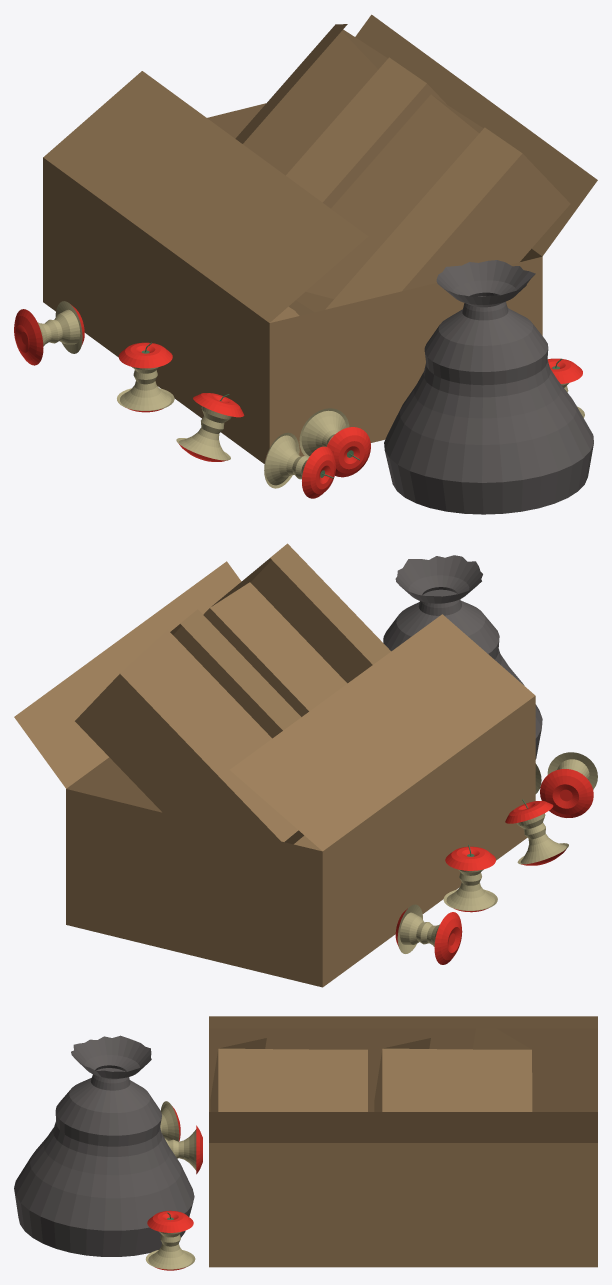
The model's file is RUBBISH.fbx.
The picture shows the model from 3 angles, top to bottom: view 1: azimuth 30°, elevation 25°; view 2: azimuth 150°, elevation 25°; view 3: azimuth 270°, elevation 25°; orthographic projection. The views are drawn at different scales.
Parts seen in each view (by area): view 1: Cube, Trash, Apple.003, Apple.004, Apple.005, Apple.002, Apple.001, Apple; view 2: Cube, Trash, Apple.004, Apple.005, Apple.002, Apple.001; view 3: Cube, Trash, Apple, Apple.003, Apple.004.
Boxes of the visible parts, x1,y1,x2,y2 form: Cube: (43, 14, 597, 463); Trash: (384, 260, 593, 514); Apple.003: (299, 408, 370, 477); Apple.004: (264, 432, 335, 498); Apple.005: (14, 301, 84, 365); Apple.002: (117, 342, 174, 412); Apple.001: (176, 393, 244, 461); Apple: (547, 358, 584, 417); Cube: (14, 543, 535, 987); Trash: (383, 555, 542, 759); Apple.004: (540, 752, 597, 817); Apple.005: (395, 904, 462, 964); Apple.002: (443, 844, 497, 912); Apple.001: (505, 799, 568, 865); Cube: (209, 1016, 597, 1267); Trash: (14, 1035, 194, 1256); Apple: (145, 1210, 195, 1270); Apple.003: (165, 1125, 202, 1174); Apple.004: (160, 1101, 180, 1141).
Size of the model in its own units: 129 by 84.8 by 186.
